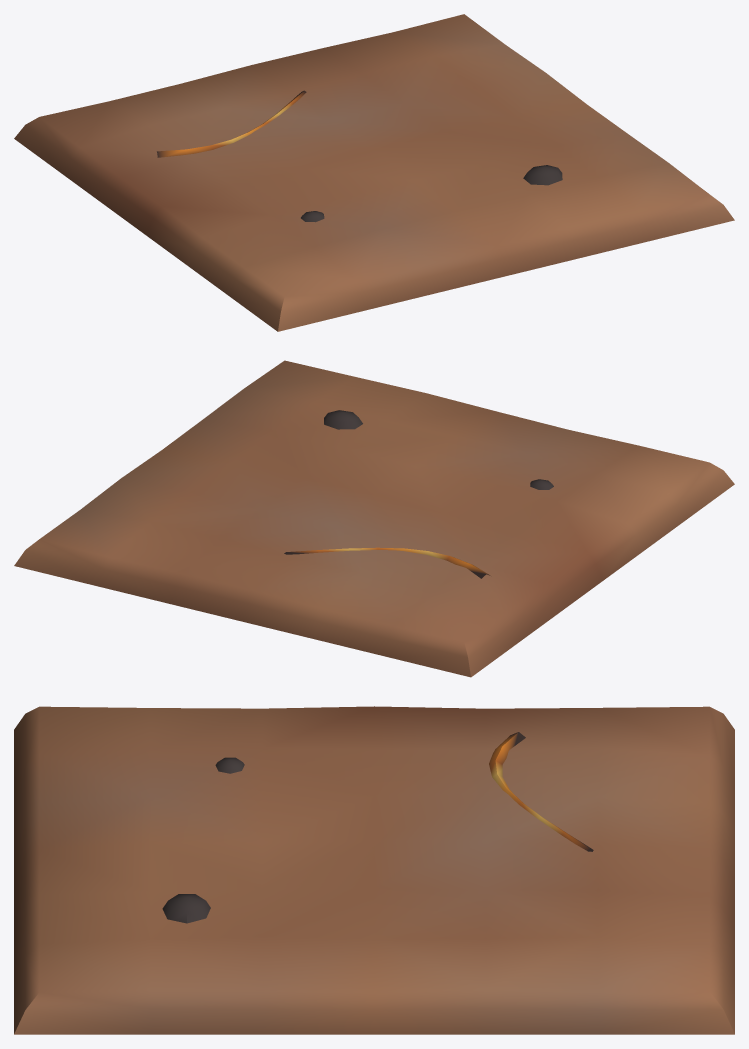
The model's file is EmberTileA.fbx.
The picture shows the model from 3 angles, top to bottom: view 1: azimuth 30°, elevation 25°; view 2: azimuth 150°, elevation 25°; view 3: azimuth 270°, elevation 25°; orthographic projection. The views are drawn at different scales.
Visible parts, largest first — view 1: EmberTileA; view 2: EmberTileA; view 3: EmberTileA.
Boxes of the visible parts, x1,y1,x2,y2 form: EmberTileA: [14, 14, 734, 331]; EmberTileA: [14, 360, 734, 677]; EmberTileA: [14, 706, 734, 1034].
Size of the model in its own units: 1 by 0.0789 by 1.
